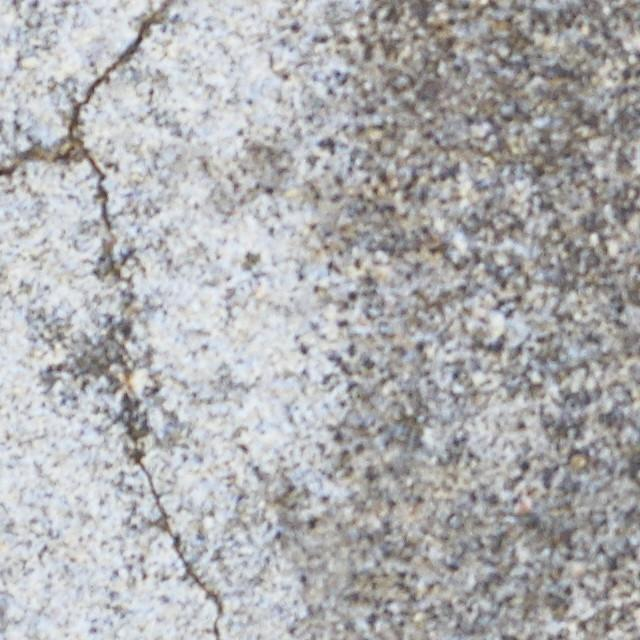branched cracks: (0, 0, 222, 640)
